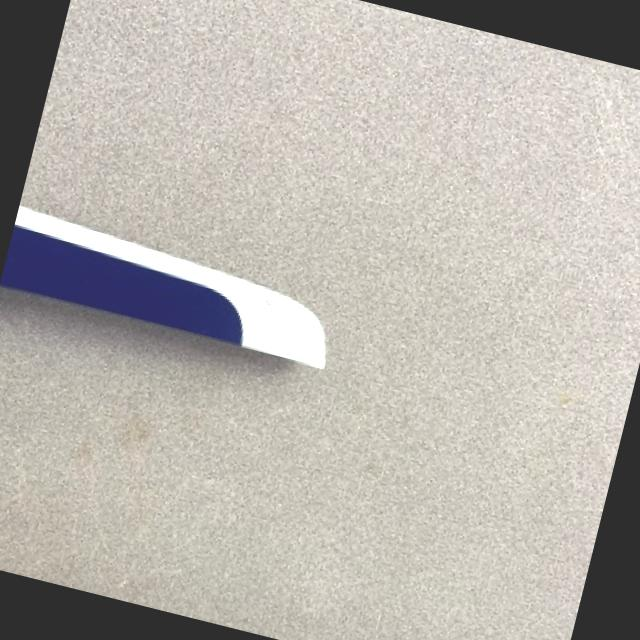healthy: (2, 204, 328, 365)
